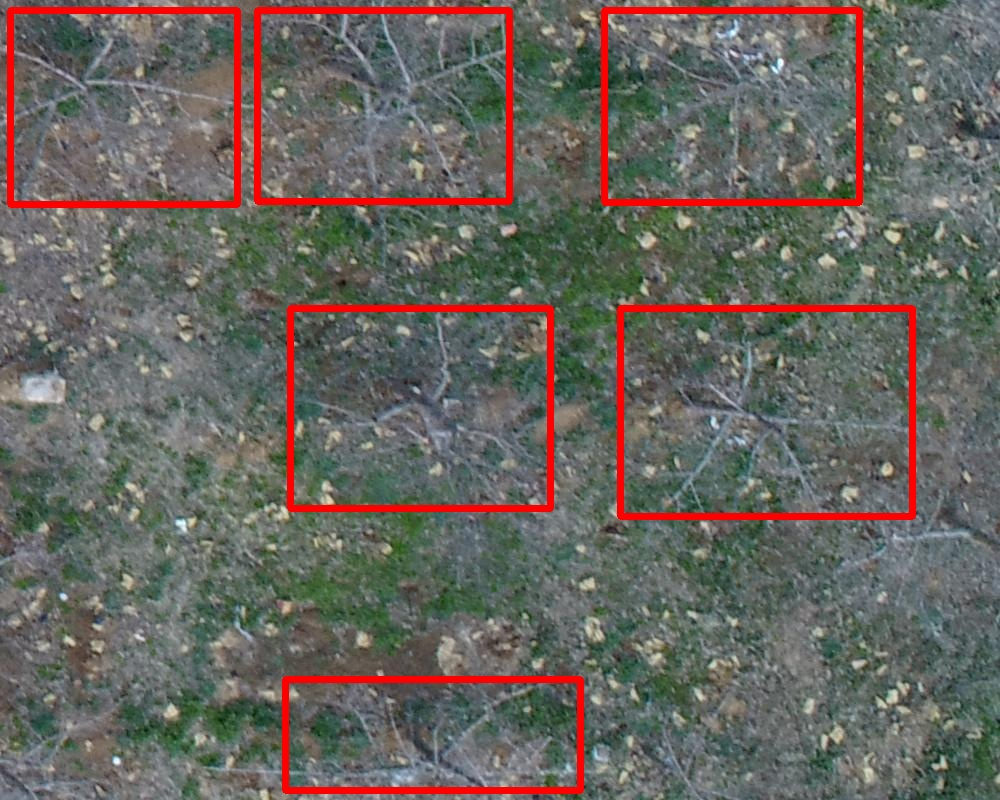apple: (620, 308, 912, 516), (290, 308, 550, 508), (604, 10, 859, 202), (257, 10, 509, 201), (10, 10, 237, 204), (285, 679, 580, 790)
